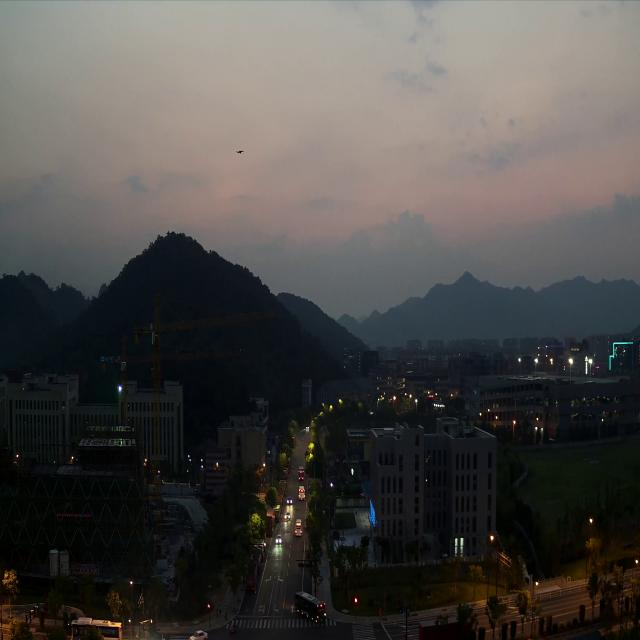UAV: (236, 148, 244, 154)
